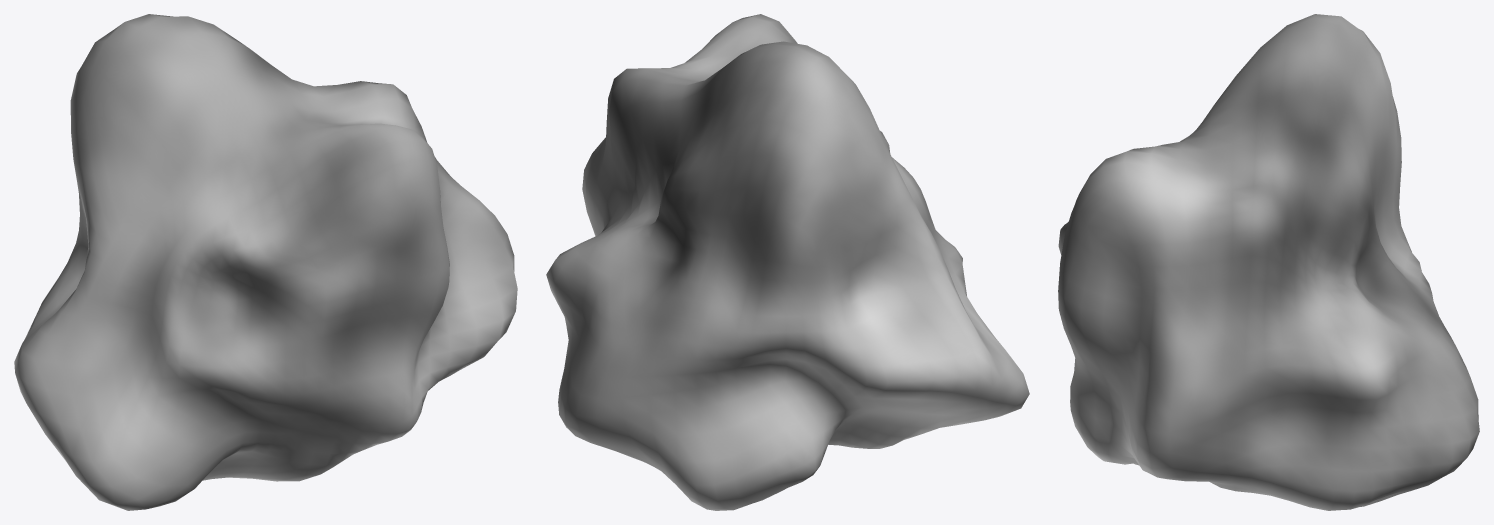
Rendered from rough_asteroid_small.obj.
The picture shows the model from 3 angles, left to right: view 1: azimuth 30°, elevation 25°; view 2: azimuth 150°, elevation 25°; view 3: azimuth 270°, elevation 25°; orthographic projection.
Parts seen in each view (by area): view 1: Asteroid.002; view 2: Asteroid.002; view 3: Asteroid.002.
Part boxes in pixels (x1,y1,x2,y2): Asteroid.002: [14, 14, 517, 510]; Asteroid.002: [546, 14, 1029, 510]; Asteroid.002: [1058, 14, 1479, 510].
Bounding box in the file's own units: 2.09 × 1.99 × 1.7.
1 material, 1 textured.
